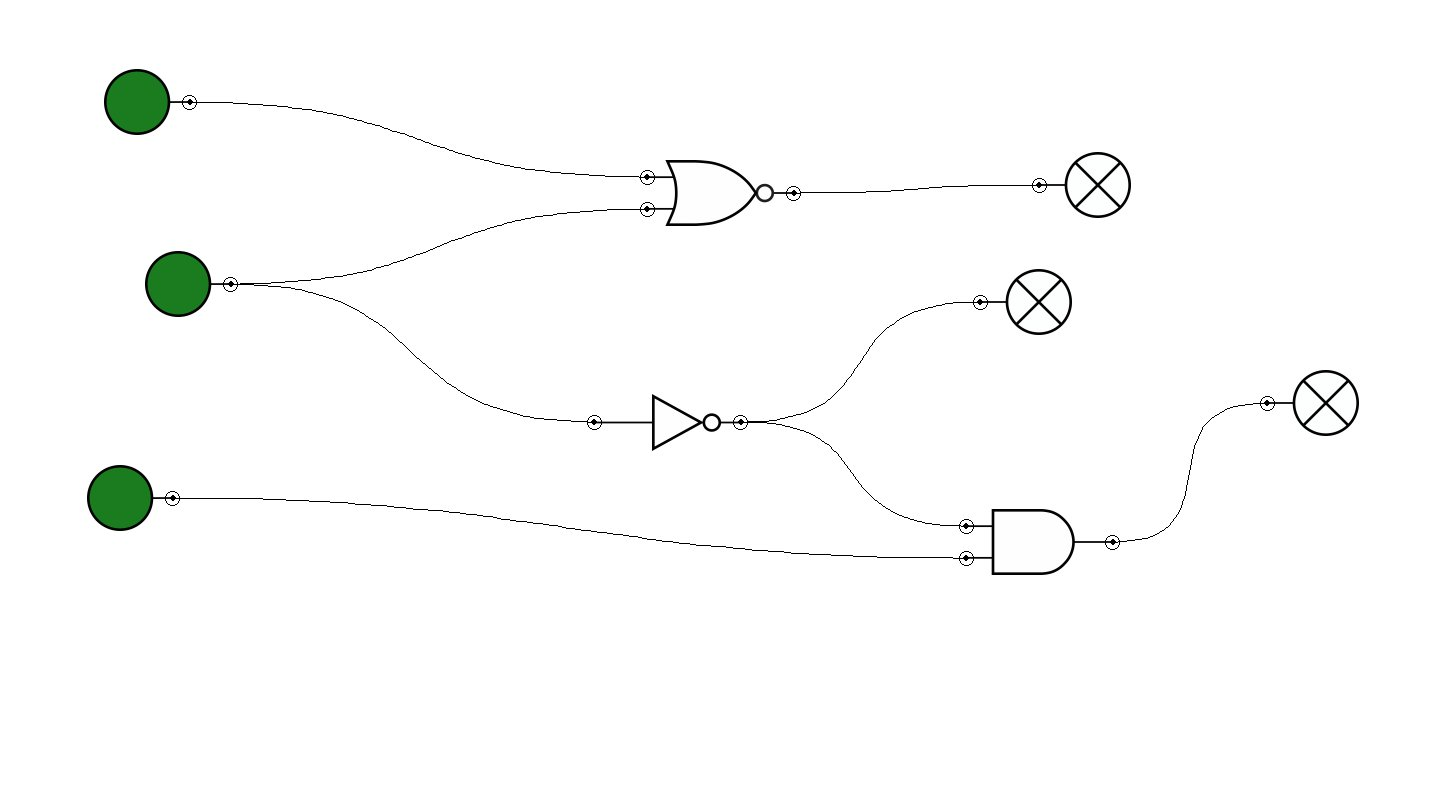and: (959, 509, 1120, 575)
bulb: (973, 269, 1072, 335), (1032, 152, 1131, 218), (1260, 370, 1359, 436)
nor: (640, 160, 801, 226)
not: (587, 394, 748, 451)
switch_True: (145, 251, 238, 317), (104, 69, 197, 135), (87, 465, 180, 531)
